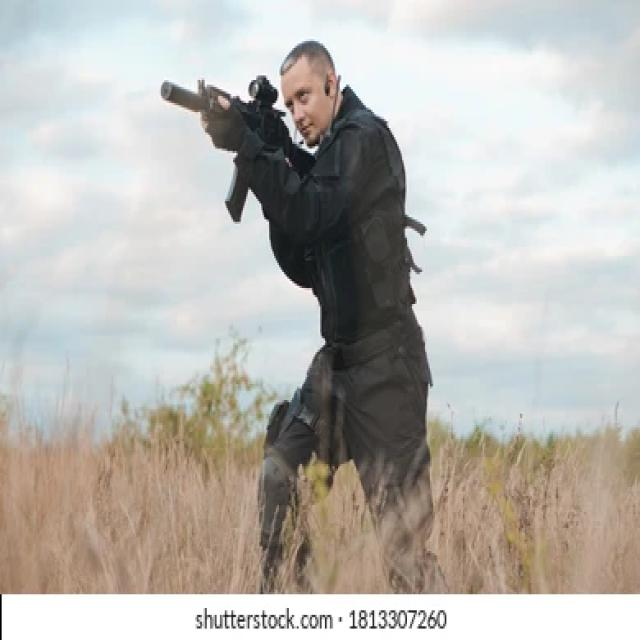soldier: (164, 37, 433, 592)
